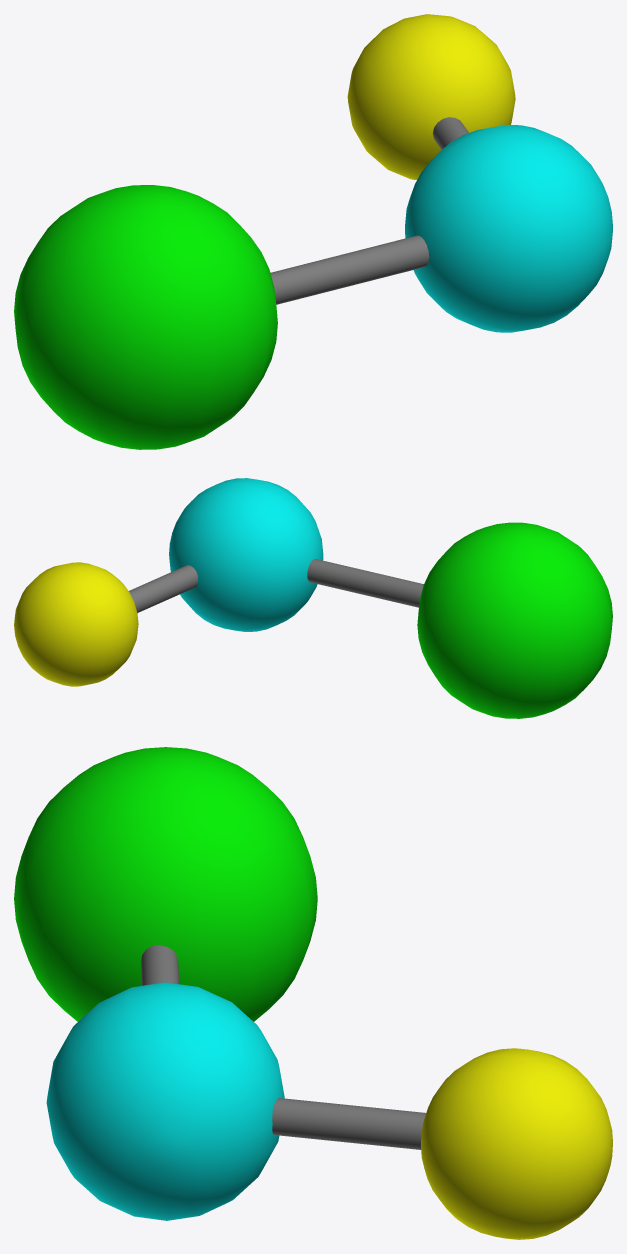
File: HClO.fbx
3 views of the same model, one above another, from view 1: azimuth 30°, elevation 25°; view 2: azimuth 150°, elevation 25°; view 3: azimuth 270°, elevation 25° (orthographic). The views are drawn at different scales.
Visible parts, largest first — view 1: HClO; view 2: HClO; view 3: HClO.
Part boxes in pixels (x1,y1,x2,y2): HClO: [14, 14, 612, 449]; HClO: [14, 478, 612, 718]; HClO: [14, 747, 612, 1239].
Size of the model in its own units: 7.18 by 2.63 by 5.19.
